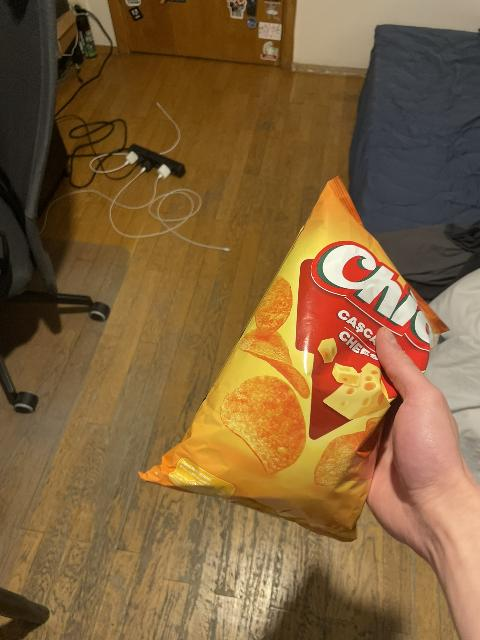Chio Cascaval 125g: (133, 175, 451, 543)
